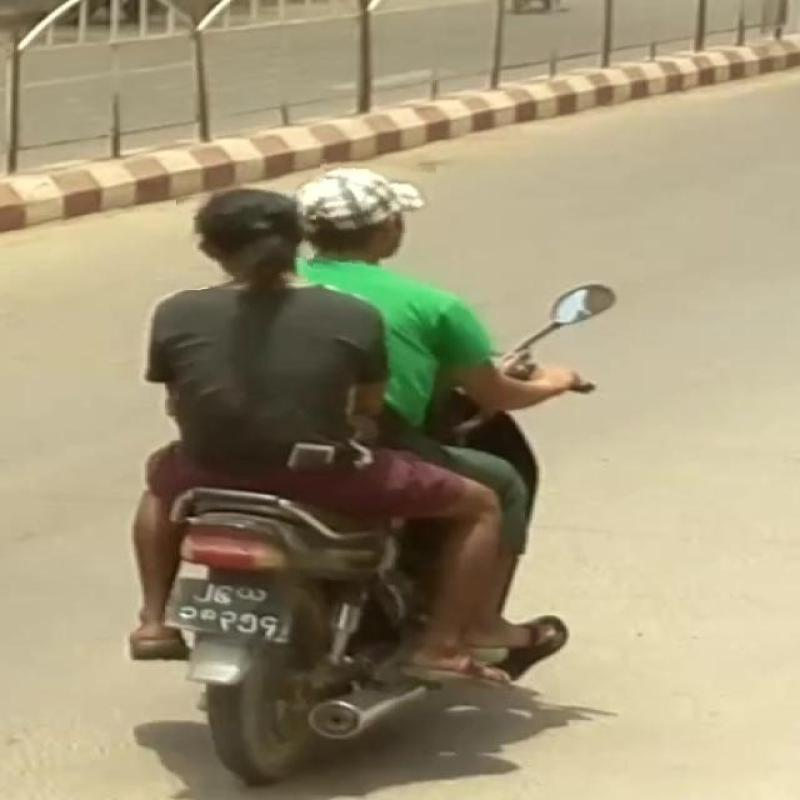nohelmet: (314, 161, 434, 274), (178, 191, 306, 288)
